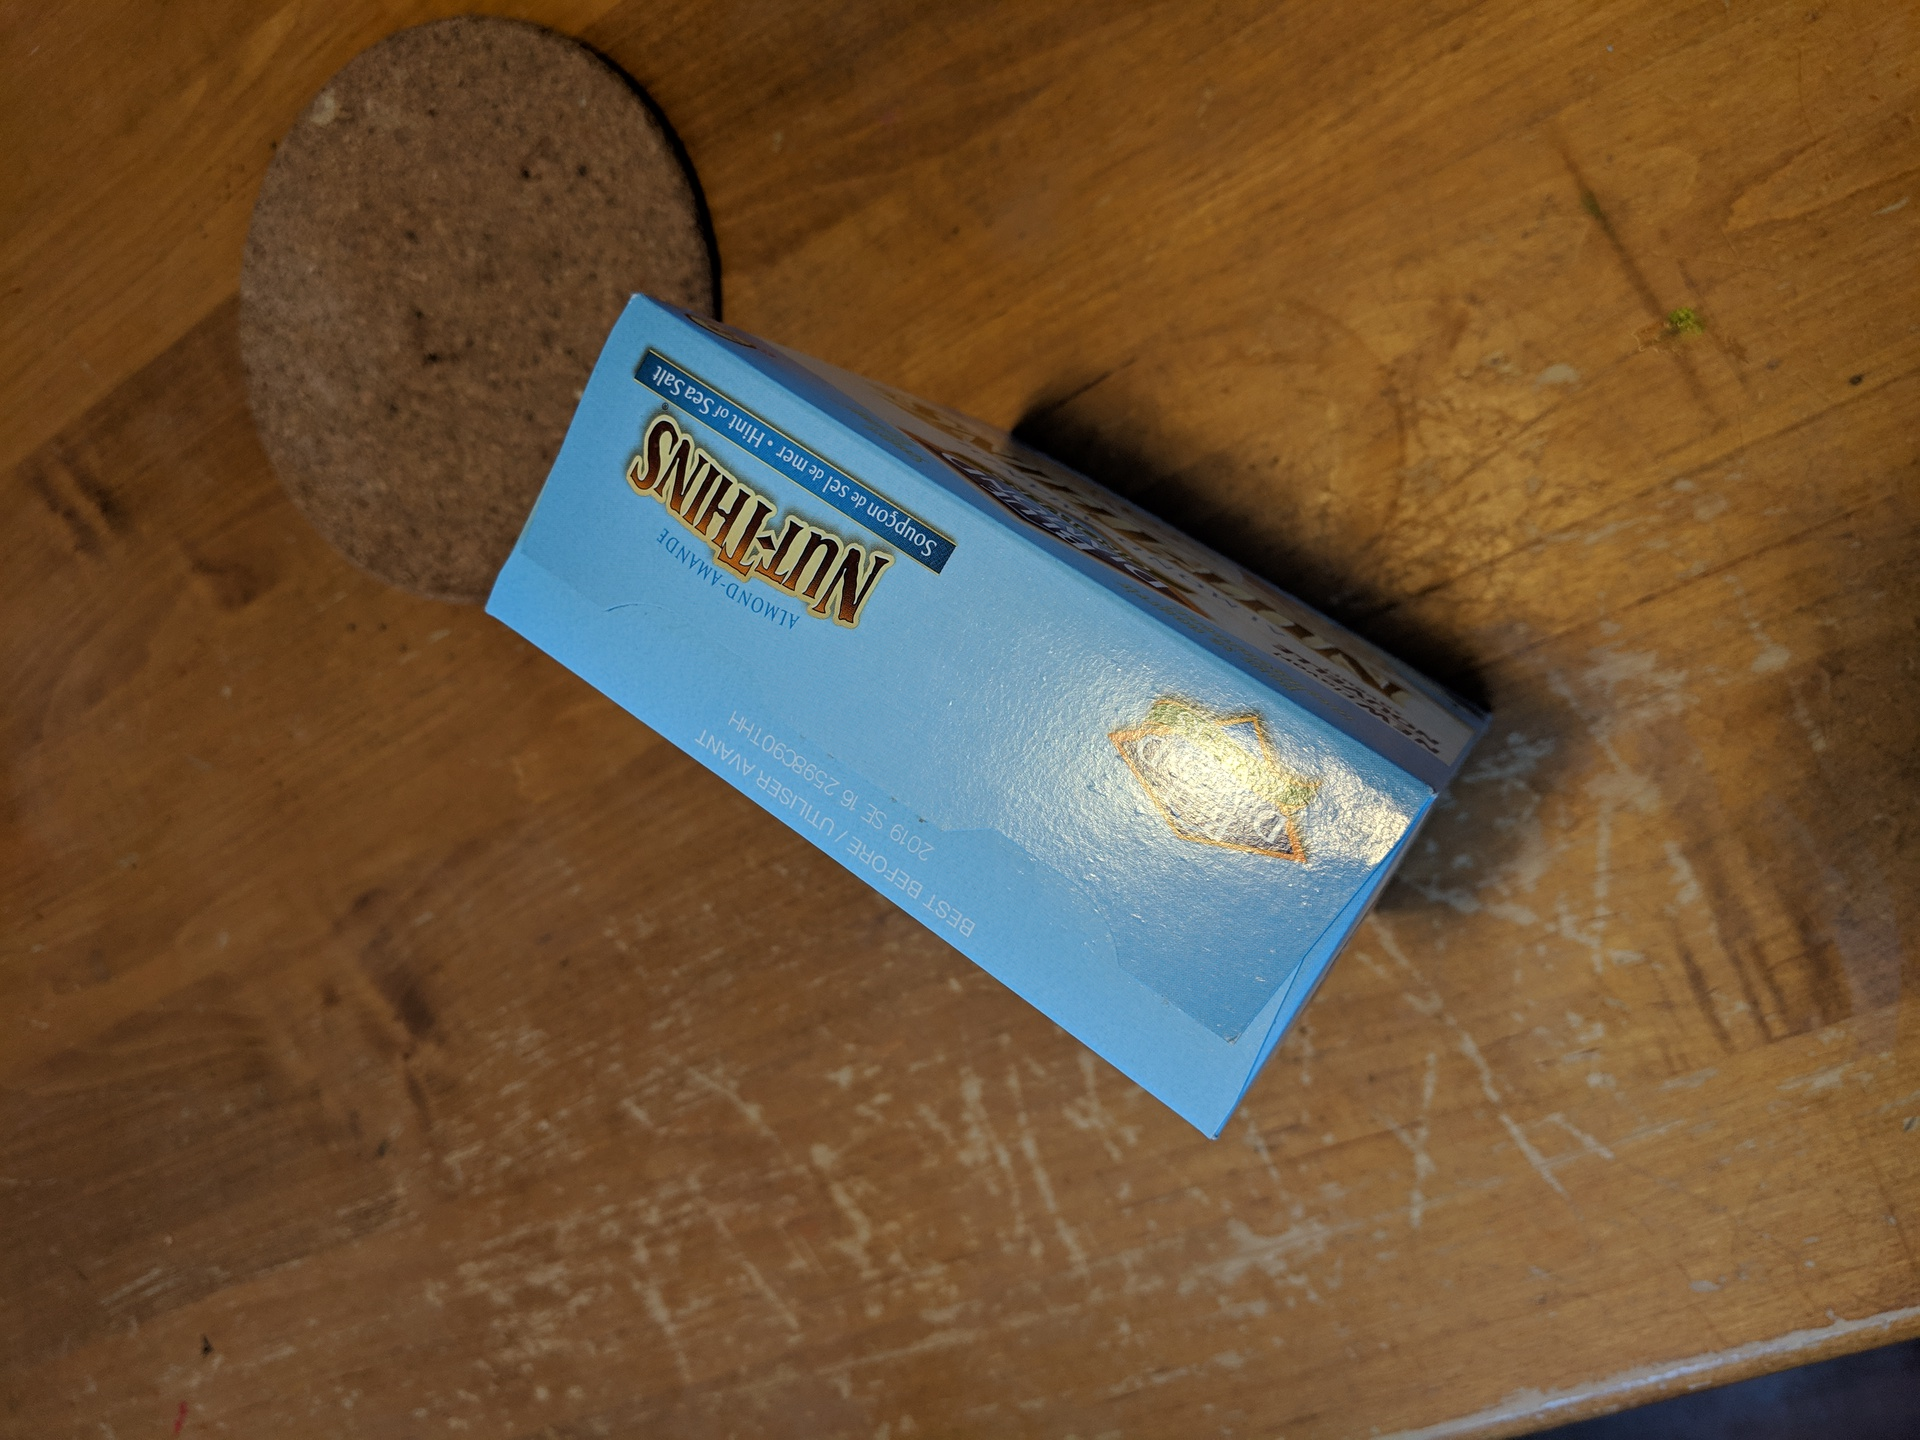blue_diamond_nut_thins_almond_seasalt: (544, 417, 1392, 1033)
